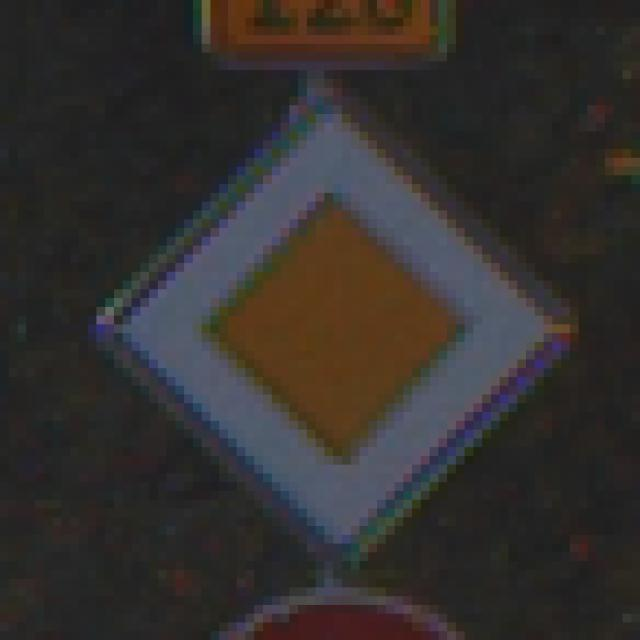Main Road: (63, 63, 589, 589)
